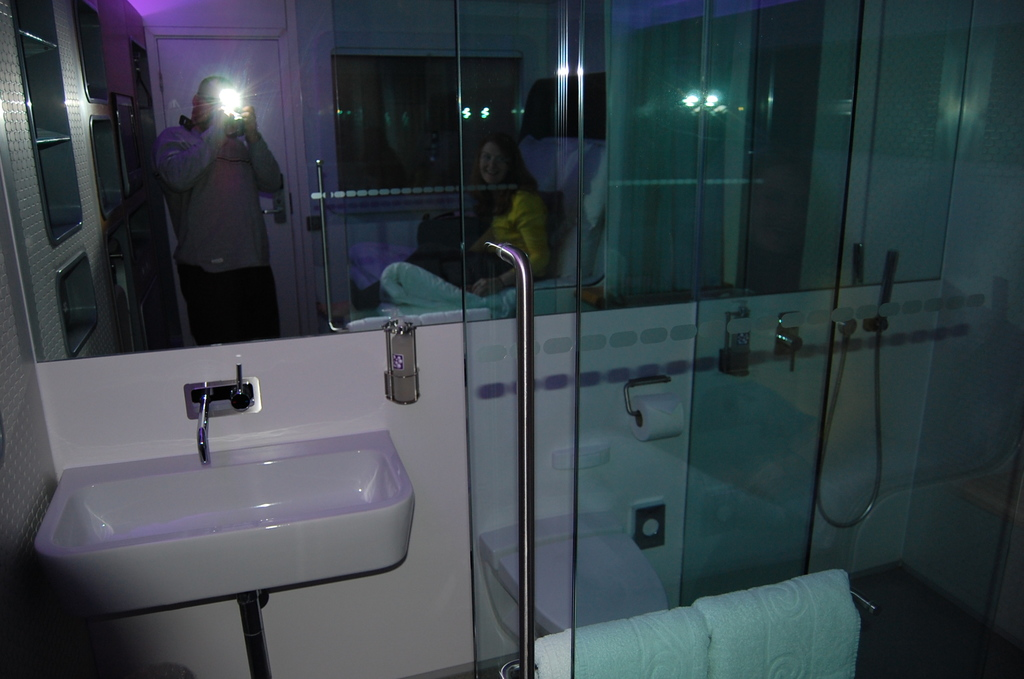tap: (172, 377, 257, 458)
